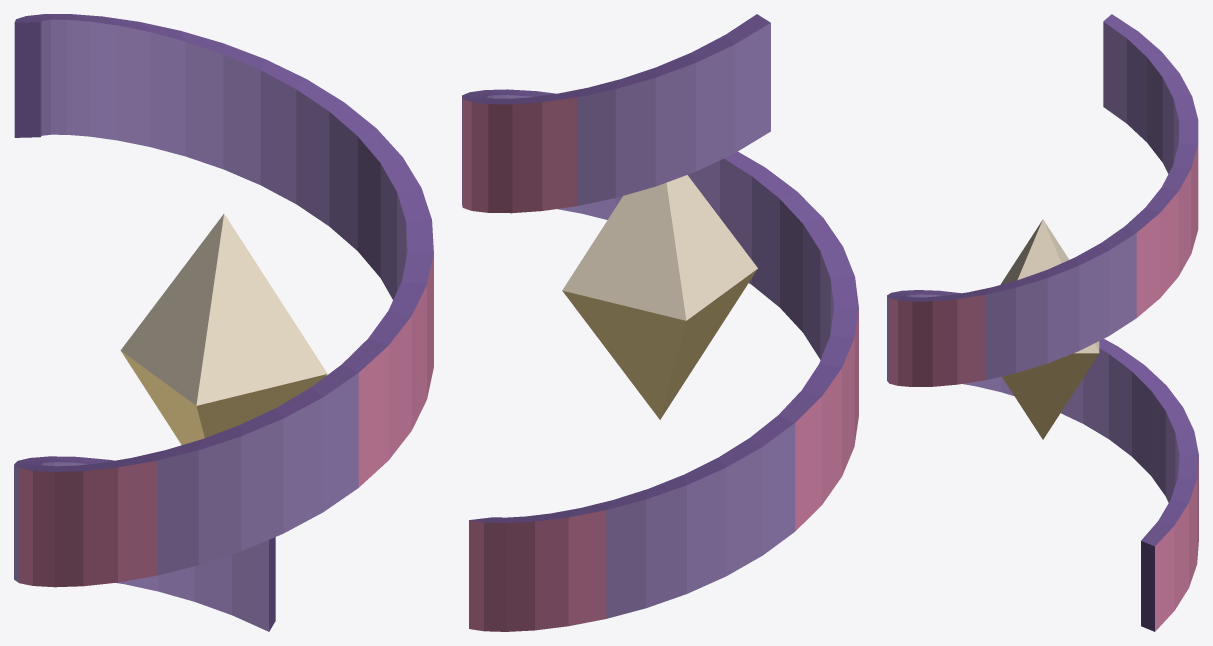
Rendered from ribbon.glb.
The picture shows the model from 3 angles, left to right: view 1: azimuth 30°, elevation 25°; view 2: azimuth 150°, elevation 25°; view 3: azimuth 270°, elevation 25°; orthographic projection. The views are drawn at different scales.
Parts seen in each view (by area): view 1: Helix, Suspended core; view 2: Helix, Suspended core; view 3: Helix, Suspended core.
Part boxes in pixels (x1,y1,x2,y2): Helix: (14,14,433,631); Suspended core: (120,213,327,444); Helix: (462,14,858,631); Suspended core: (562,175,757,419); Helix: (887,14,1198,631); Suspended core: (1000,219,1099,439).
Size of the model in its own units: 1.92 by 3.48 by 1.92.
